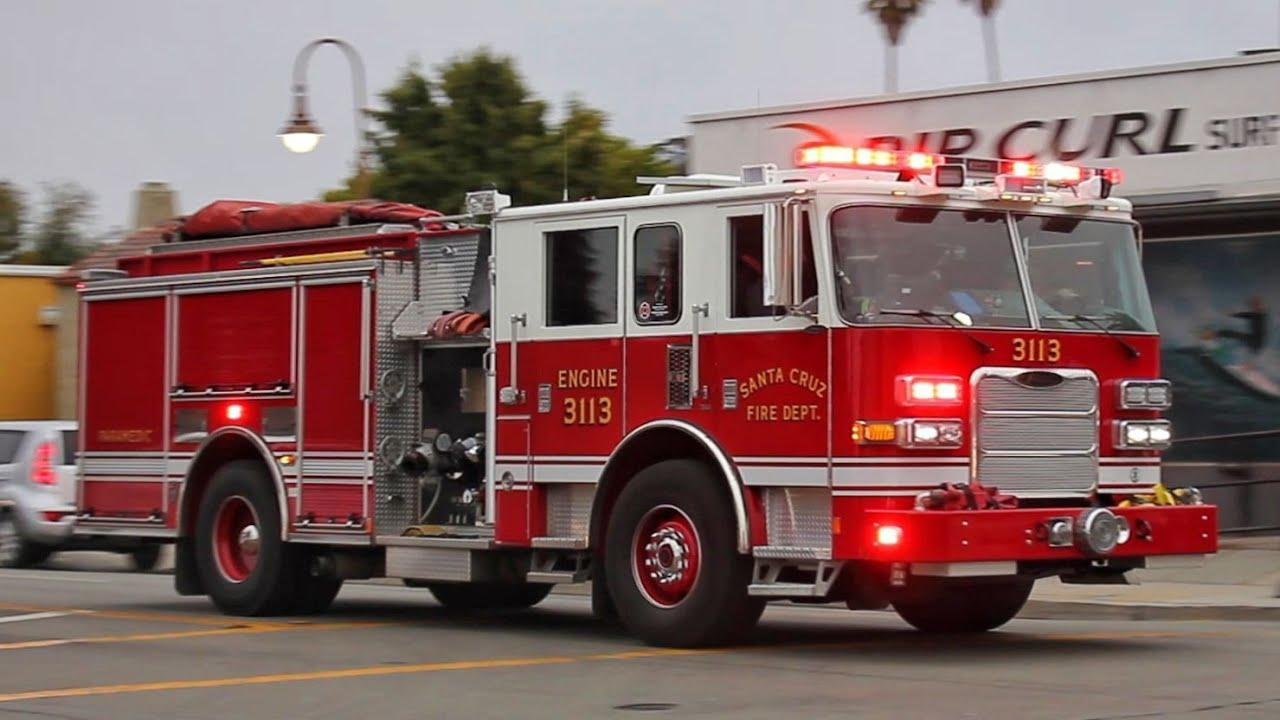Fire-engine: (0, 131, 1222, 650), (798, 139, 1131, 204)
